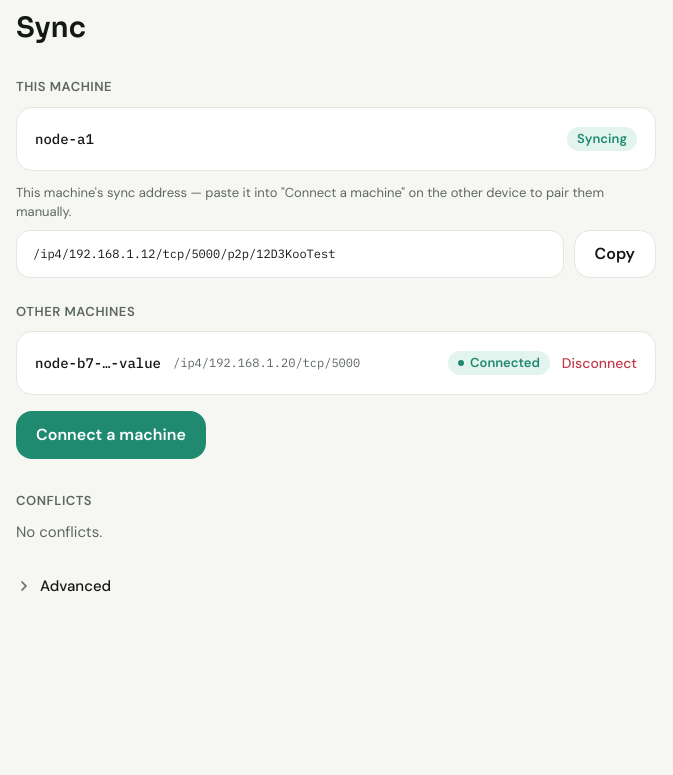
sync/+page.svelte › keeps coordinator term and score behind Advanced
Expected: the text "This machine" is shown, [16,78,112,95]
Click the heading "Advanced".
click(64, 586)  # box [16,576,111,596]
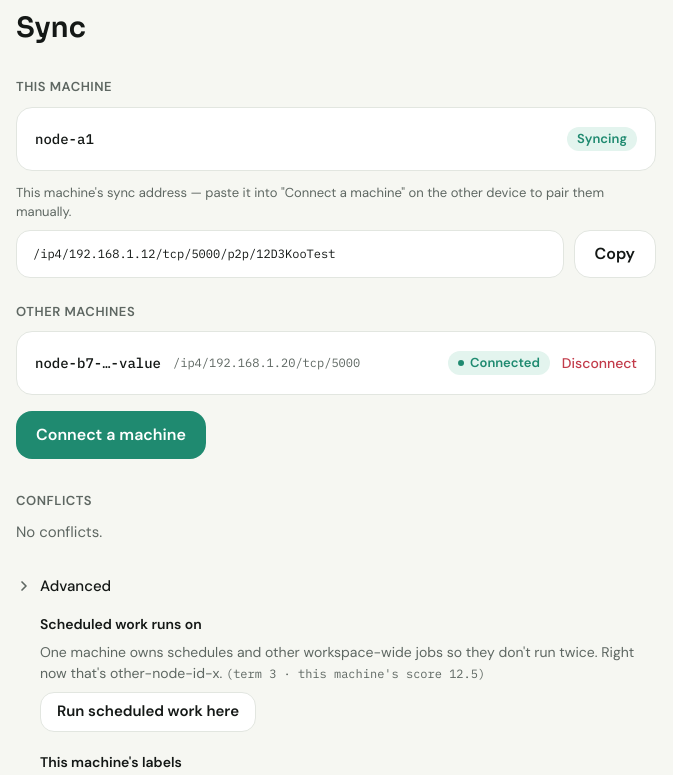
Expected: the text "(term 3 · this machine's score 12.5)" is shown, [226,666,485,680]
Expected: the button "Run scheduled work here" is shown, [40,692,256,732]
